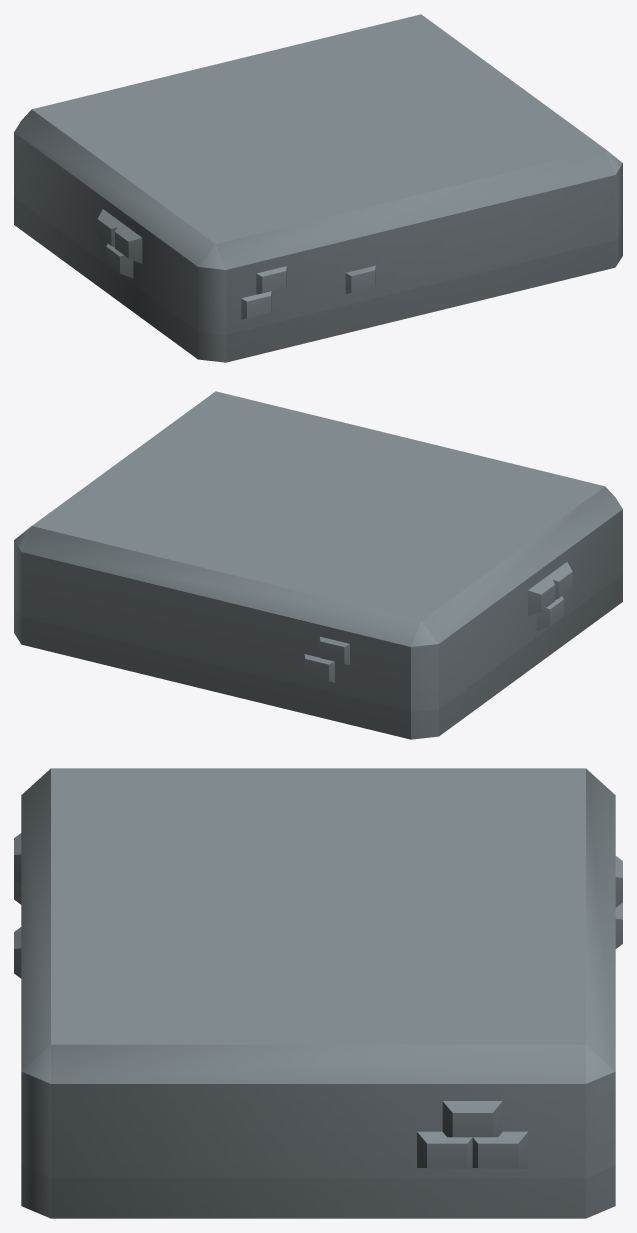
Rendered from Sockel_2.glb.
3 views of the same model, one above another, from view 1: azimuth 30°, elevation 25°; view 2: azimuth 150°, elevation 25°; view 3: azimuth 270°, elevation 25° (orthographic). The views are drawn at different scales.
Visible parts, largest first — view 1: Sockel; view 2: Sockel; view 3: Sockel.
Part boxes in pixels (left/top/right/bottom): Sockel: left=14, top=14, right=622, bottom=362; Sockel: left=14, top=391, right=622, bottom=739; Sockel: left=14, top=768, right=622, bottom=1218.
Size of the model in its own units: 0.8749 by 0.21 by 0.7173.
1 material, 1 textured.
